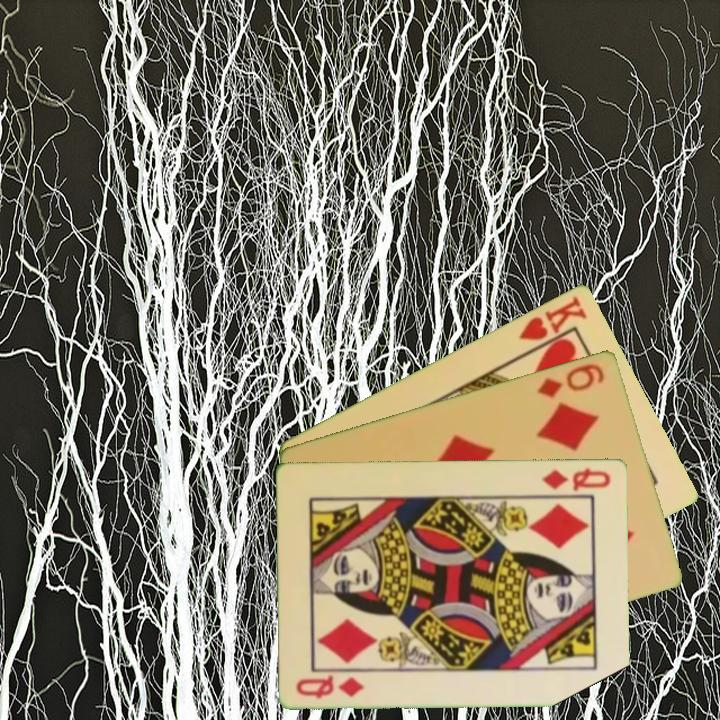6d: (534, 359, 608, 401)
Kh: (515, 292, 590, 357)
Qd: (293, 671, 367, 701), (538, 464, 613, 493)
